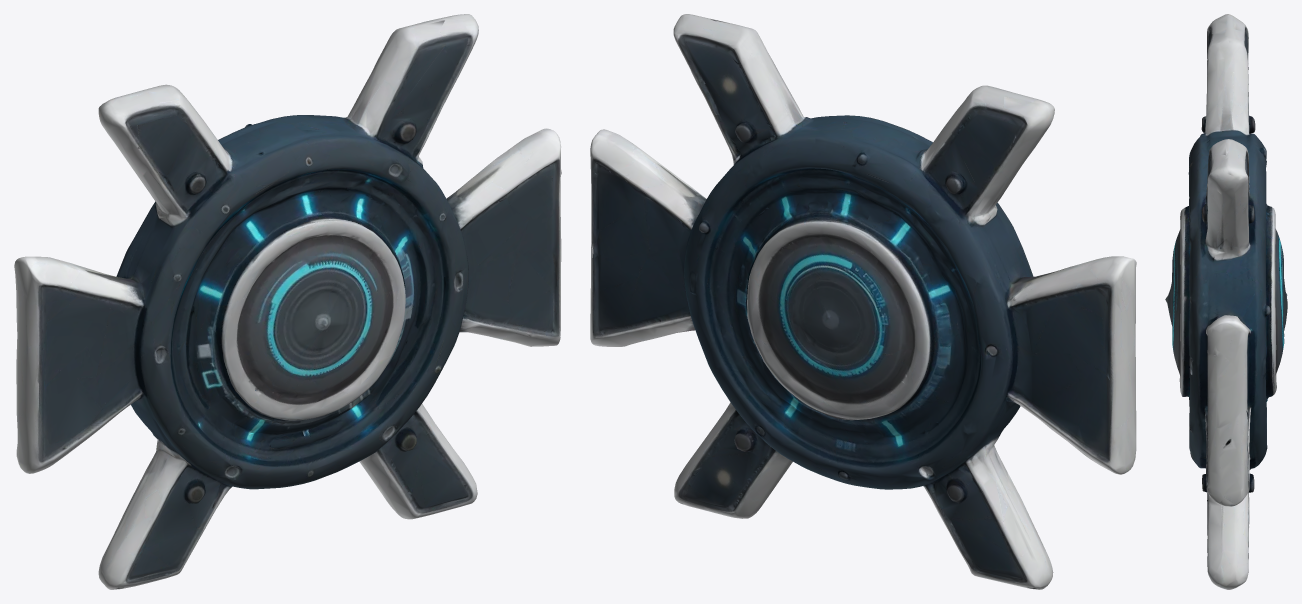
The model's file is apex-core-orb.glb.
3 views of the same model, side by side, from view 1: azimuth 30°, elevation 25°; view 2: azimuth 150°, elevation 25°; view 3: azimuth 270°, elevation 25° (orthographic). The views are drawn at different scales.
Bounding box in the file's own units: 2 × 1.76 × 0.4575.
Materials: 1 (1 with a texture image).
